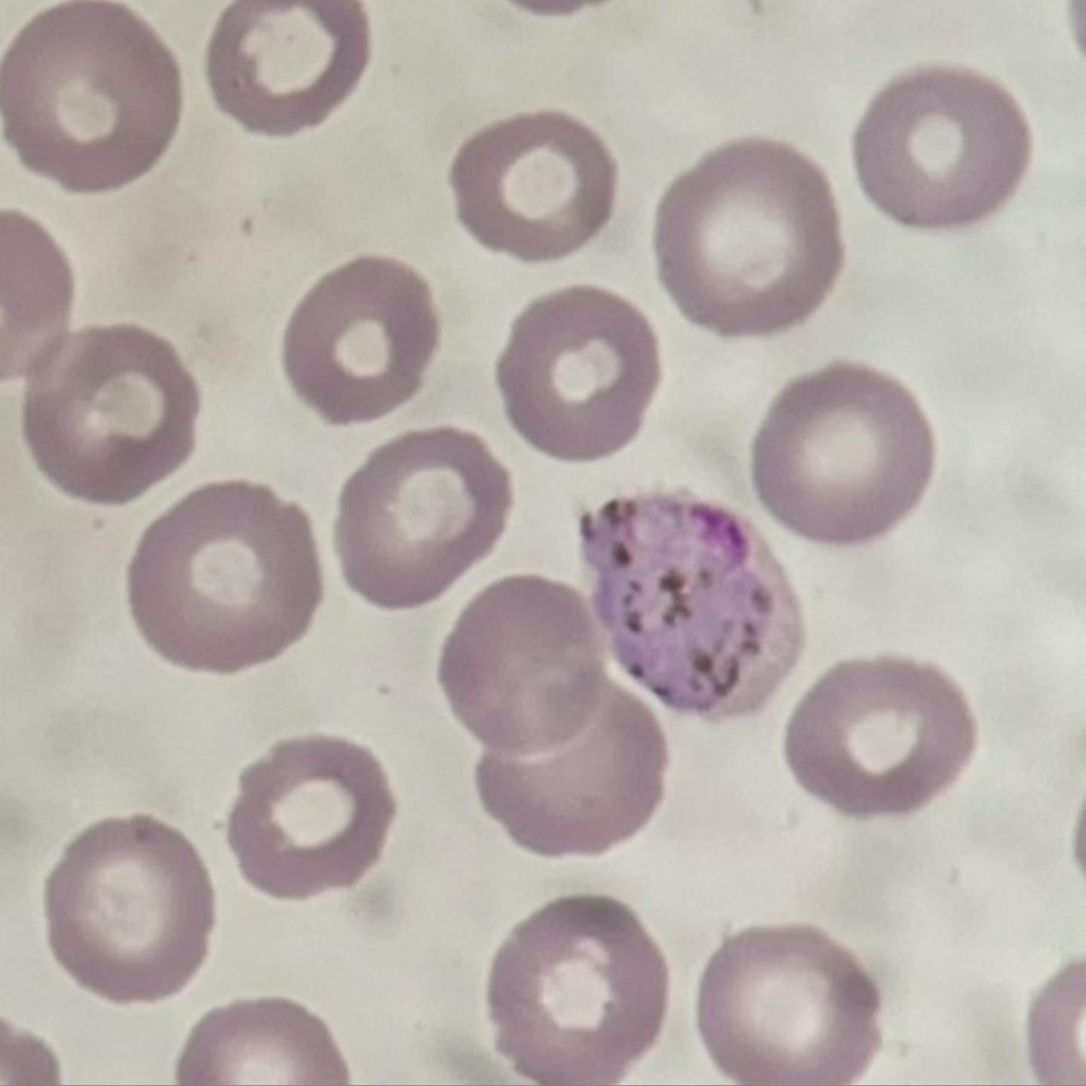Infected: (578, 496, 804, 715)
Uninfected: (129, 480, 320, 673), (653, 143, 842, 336), (754, 360, 935, 548), (3, 2, 183, 189), (437, 575, 617, 762), (486, 897, 665, 1083), (471, 686, 665, 857), (24, 325, 201, 502), (43, 819, 212, 1000), (336, 429, 508, 606), (784, 659, 972, 818), (694, 928, 876, 1084), (495, 287, 659, 460), (855, 66, 1029, 227), (228, 735, 395, 896), (282, 258, 441, 425), (450, 112, 618, 261), (209, 0, 369, 133)
